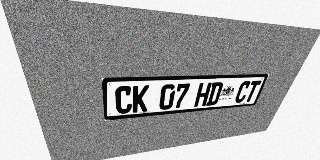0: (158, 84, 176, 110)
7: (172, 83, 190, 109)
C: (115, 86, 132, 114), (233, 81, 252, 103)
D: (206, 82, 224, 106)
H: (194, 82, 212, 107)
K: (132, 85, 149, 113)
T: (243, 80, 262, 102)
